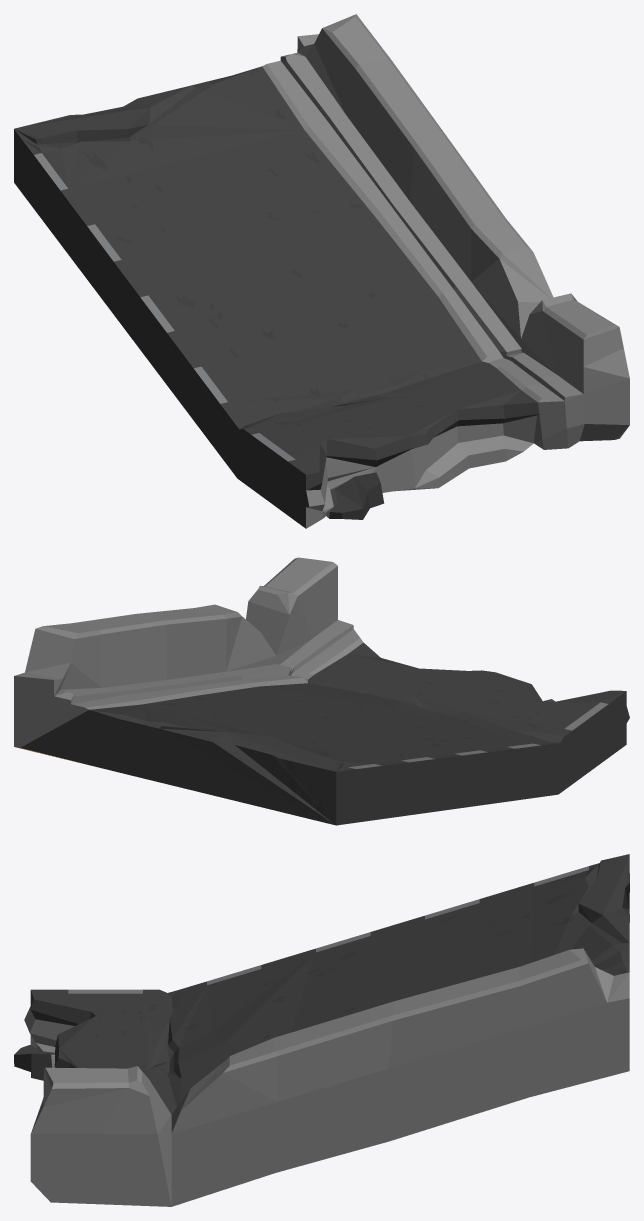
Rendered from SM_Env_Motorway_Ramp_Edge_Destroyed_01.glb.
3 views of the same model, one above another, from view 1: azimuth 30°, elevation 25°; view 2: azimuth 150°, elevation 25°; view 3: azimuth 270°, elevation 25° (orthographic). The views are drawn at different scales.
Parts seen in each view (by area): view 1: SM_Env_Motorway_Ramp_Edge_Destroyed_01; view 2: SM_Env_Motorway_Ramp_Edge_Destroyed_01; view 3: SM_Env_Motorway_Ramp_Edge_Destroyed_01.
Boxes of the visible parts, <box> form: SM_Env_Motorway_Ramp_Edge_Destroyed_01: <box>14,14,629,528</box>; SM_Env_Motorway_Ramp_Edge_Destroyed_01: <box>14,557,629,825</box>; SM_Env_Motorway_Ramp_Edge_Destroyed_01: <box>14,854,629,1206</box>.
Size of the model in its own units: 6.4 by 4.6 by 10.29.
1 material, 1 textured.
